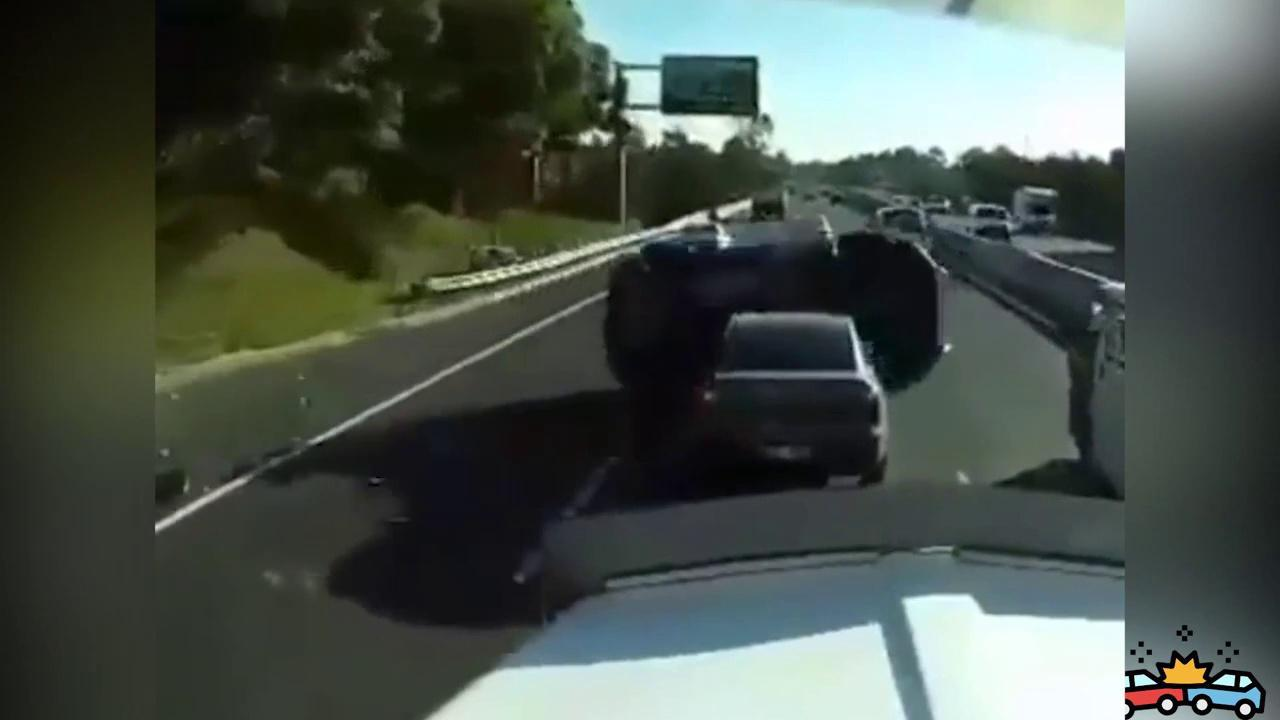car-accident: (601, 225, 939, 485)
